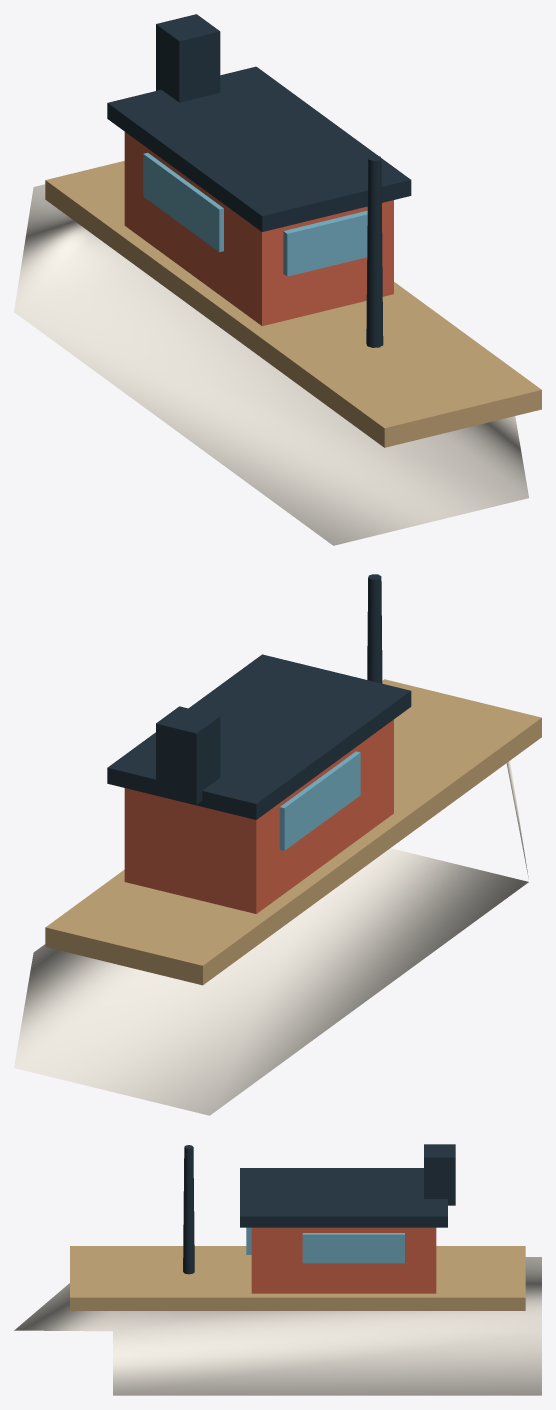
Rendered from low-poly_ferry.glb.
3 renders of one model, top to bottom at view 1: azimuth 30°, elevation 25°; view 2: azimuth 150°, elevation 25°; view 3: azimuth 270°, elevation 25°, orthographic. The views are drawn at different scales.
Visible parts, largest first — view 1: LowPolyFerry, Deck, Roof, Cabin, Chimney, FrontWindow, StarboardWindow, Mast; view 2: LowPolyFerry, Deck, Roof, Cabin, Chimney, StarboardWindow, Mast; view 3: LowPolyFerry, Deck, Roof, Cabin, PortWindow, Chimney, Mast.
Part boxes in pixels (x1,y1,x2,y2): LowPolyFerry: [14, 184, 528, 545]; Deck: [45, 161, 541, 447]; Roof: [107, 66, 411, 231]; Cabin: [124, 132, 393, 326]; Chimney: [156, 14, 220, 102]; FrontWindow: [283, 210, 367, 276]; StarboardWindow: [143, 152, 223, 252]; Mast: [366, 155, 383, 347]; LowPolyFerry: [14, 761, 528, 1115]; Deck: [45, 679, 541, 985]; Roof: [107, 654, 411, 819]; Cabin: [124, 719, 393, 913]; Chimney: [156, 706, 220, 804]; StarboardWindow: [279, 751, 360, 850]; Mast: [367, 574, 382, 683]; LowPolyFerry: [14, 1257, 541, 1395]; Deck: [70, 1246, 525, 1310]; Roof: [240, 1168, 447, 1227]; Cabin: [251, 1227, 436, 1293]; PortWindow: [302, 1233, 404, 1263]; Chimney: [424, 1144, 455, 1205]; Mast: [183, 1145, 194, 1274].
Bounding box in the file's own units: 1.49 × 2.35 × 5.2.
